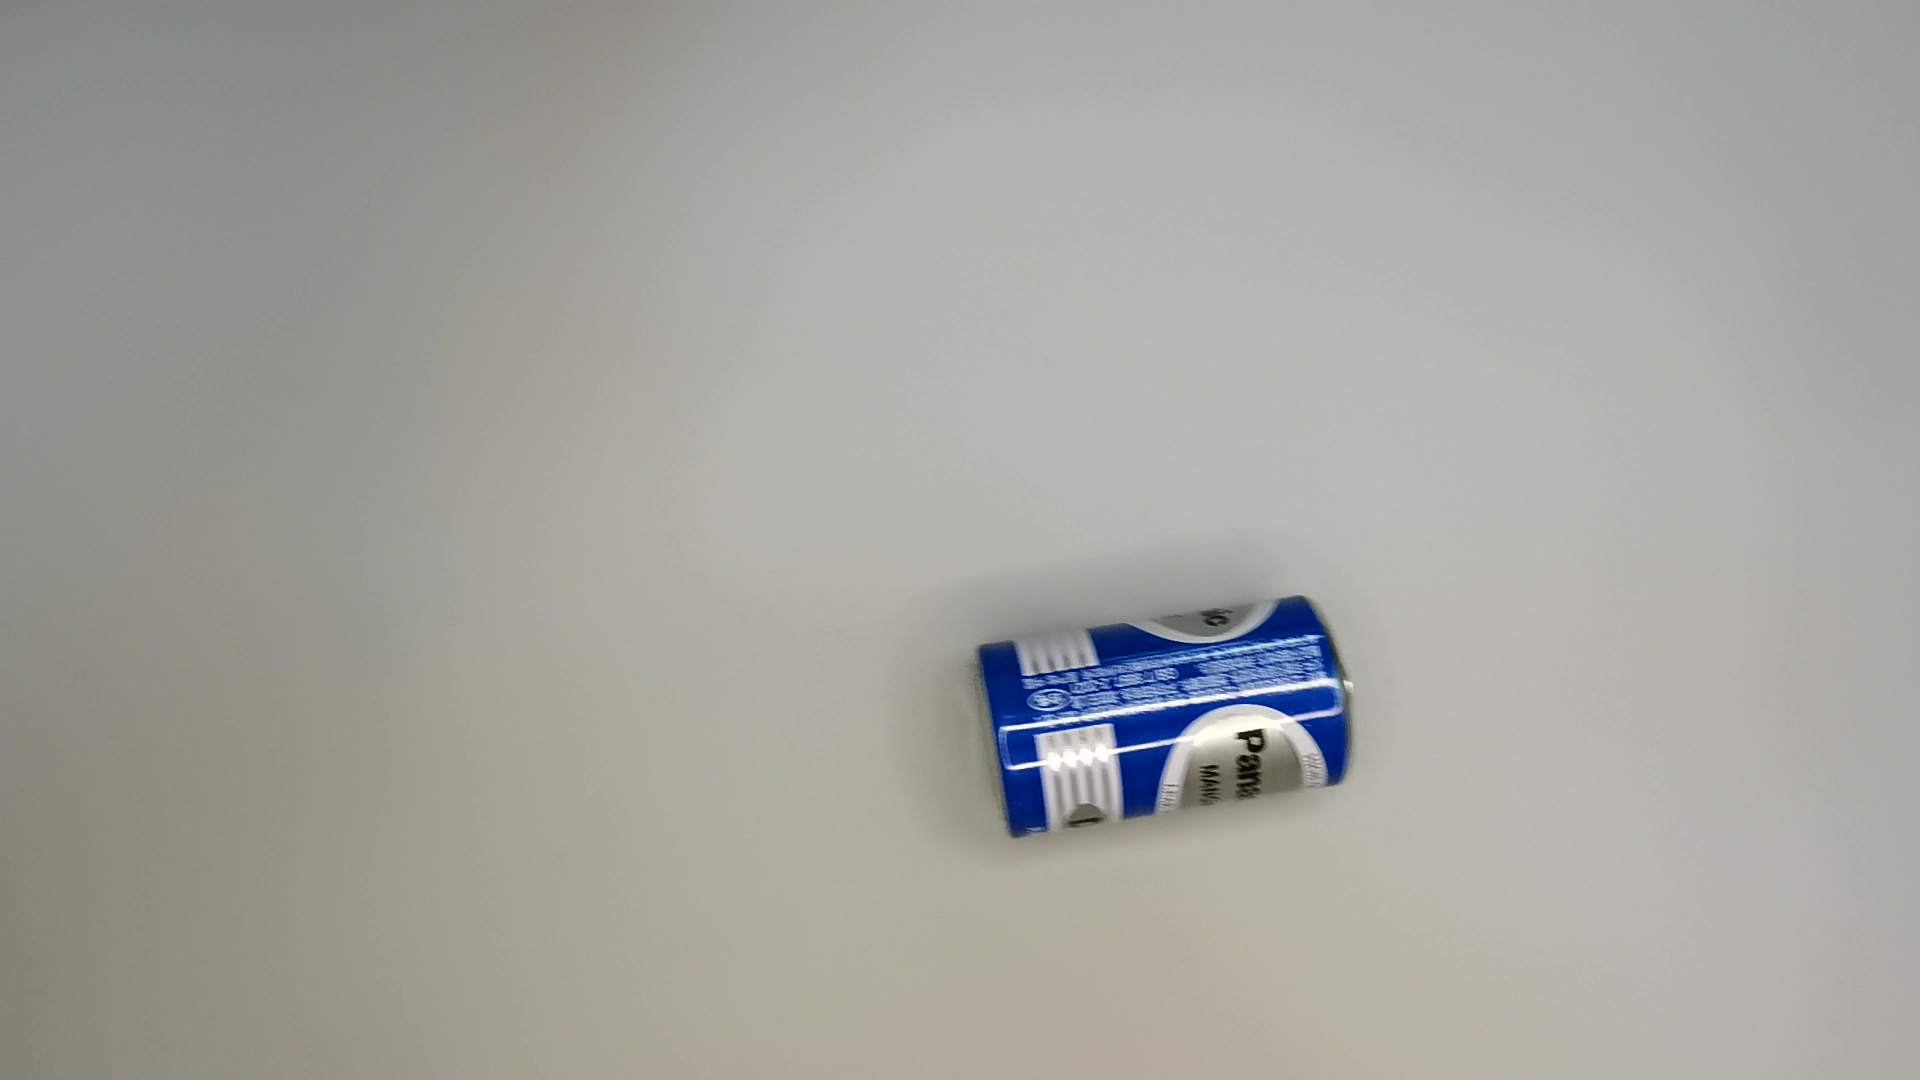battery: (969, 593, 1366, 849)
